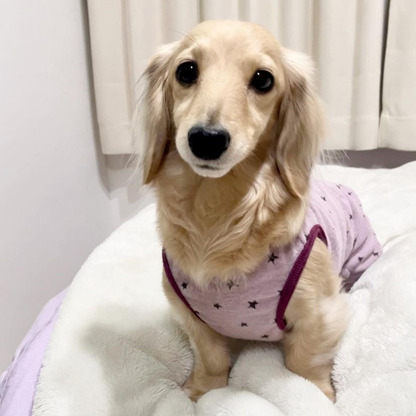dachshund: (126, 32, 393, 411)
